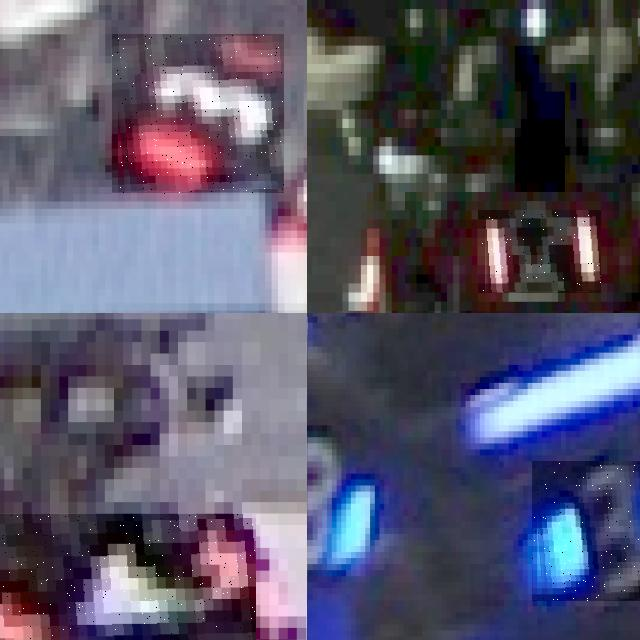B3: (532, 461, 640, 600), (307, 437, 374, 576)
R3: (112, 34, 284, 194)
R4: (0, 513, 256, 640)
Rs: (478, 210, 601, 293)
